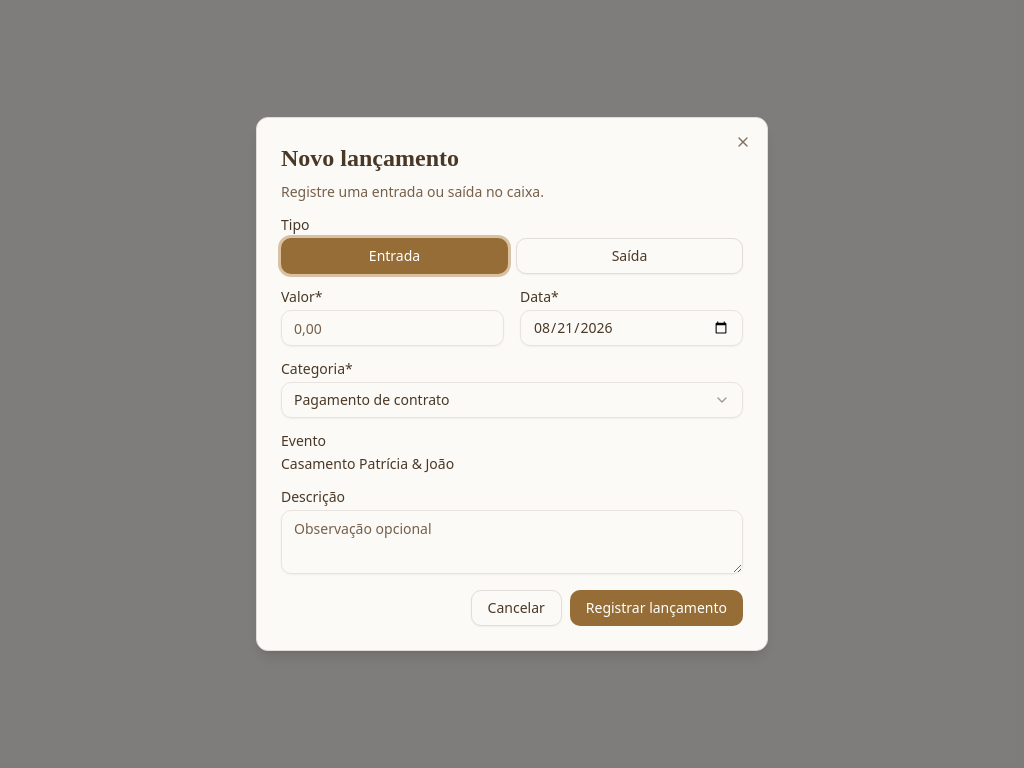
Test: TransactionFormDialog › switching to Saída resets the categoria to an active 'out' category, and a zero amount blocks submit
The image size is (1024, 768).
Expected: the dropdown named "Categoria*" reads "Pagamento de contrato", [281,382,743,418]
What coordinates should you click on to do the following:
click the button "Saída"
I would click on:
 (630, 256)
Its box is [516,238,743,274].
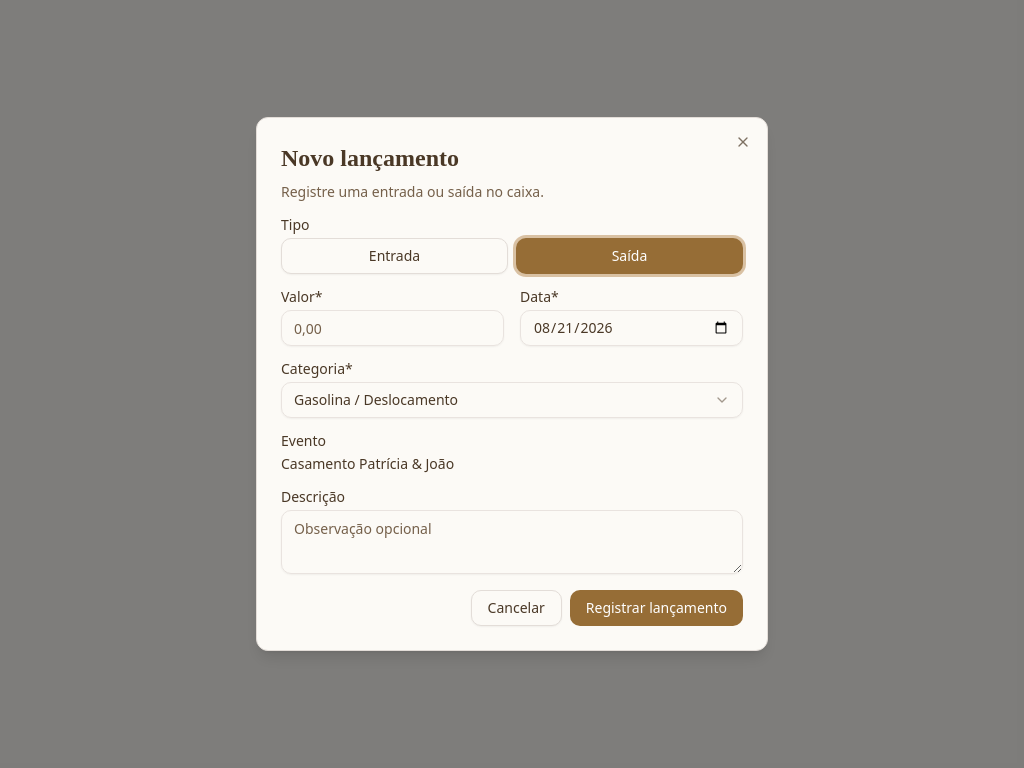
Now the dropdown named "Categoria*" reads "Gasolina / Deslocamento", box [281,382,743,418]
Amount was never touched — still 0 — so submit must block, not persist.
What coordinates should you click on to do the following:
click the button "Registrar lançamento"
I would click on:
 (656, 608)
Its box is [570,590,743,626].
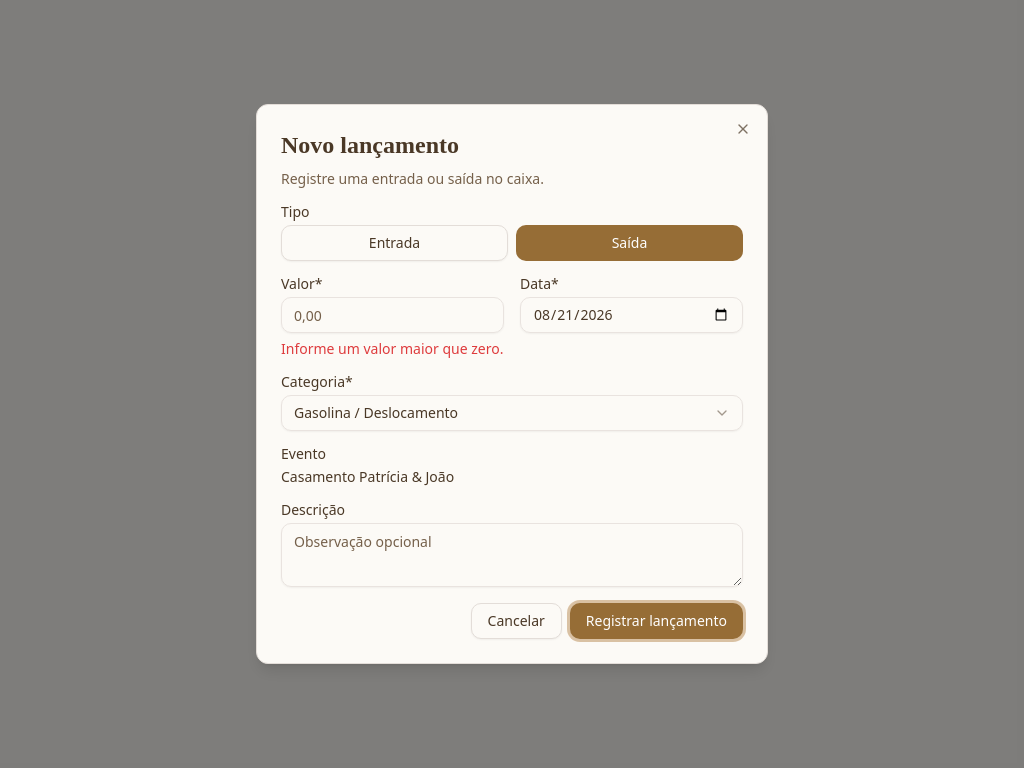
Now the text "Informe um valor maior que zero." is shown, box [281,339,504,359]
